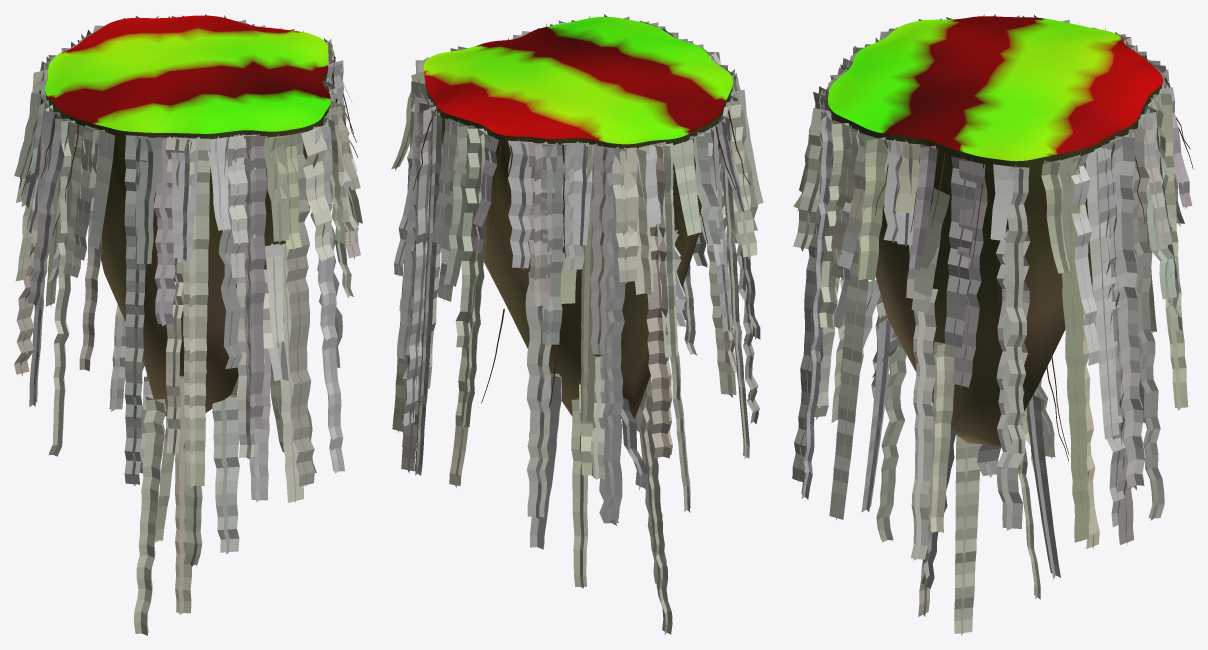
File: SM_H08_Floater07.fbx
The picture shows the model from 3 angles, left to right: view 1: azimuth 30°, elevation 25°; view 2: azimuth 150°, elevation 25°; view 3: azimuth 270°, elevation 25°; orthographic projection. The views are drawn at different scales.
Visible parts, largest first — view 1: SM_H08_Floater07_Ivy, SM_H08_Floater07; view 2: SM_H08_Floater07_Ivy, SM_H08_Floater07; view 3: SM_H08_Floater07_Ivy, SM_H08_Floater07.
Boxes of the visible parts, x1,y1,x2,y2 form: SM_H08_Floater07_Ivy: (14, 14, 362, 635); SM_H08_Floater07: (45, 15, 330, 416); SM_H08_Floater07_Ivy: (391, 14, 763, 634); SM_H08_Floater07: (423, 17, 733, 418); SM_H08_Floater07_Ivy: (792, 14, 1193, 635); SM_H08_Floater07: (828, 16, 1162, 445).
Size of the model in its own units: 27.95 by 44.72 by 27.14.
